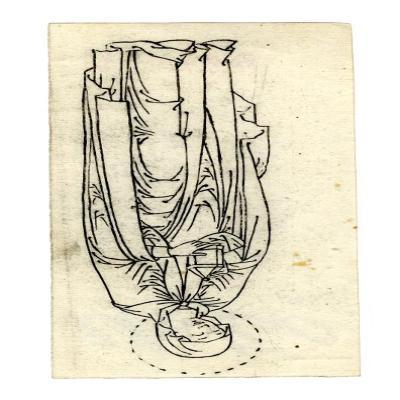graphics: (49, 22, 362, 382)
